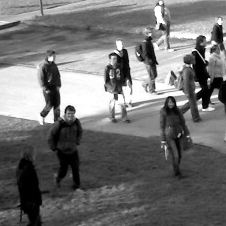person: (48, 105, 83, 191), (160, 96, 188, 178), (17, 145, 42, 226), (37, 49, 63, 126), (103, 51, 130, 122), (192, 35, 216, 114), (178, 53, 203, 123), (114, 37, 135, 109), (140, 25, 158, 94), (207, 44, 226, 103), (153, 1, 174, 52), (211, 15, 226, 46)
